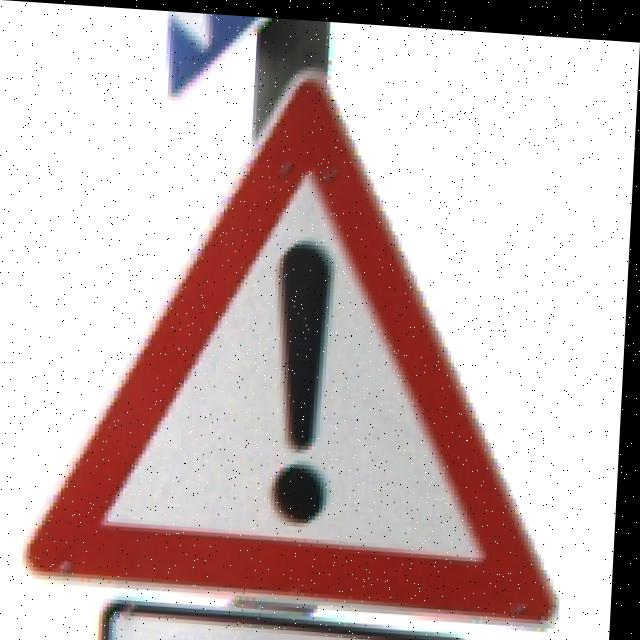warning: (71, 129, 544, 625)
